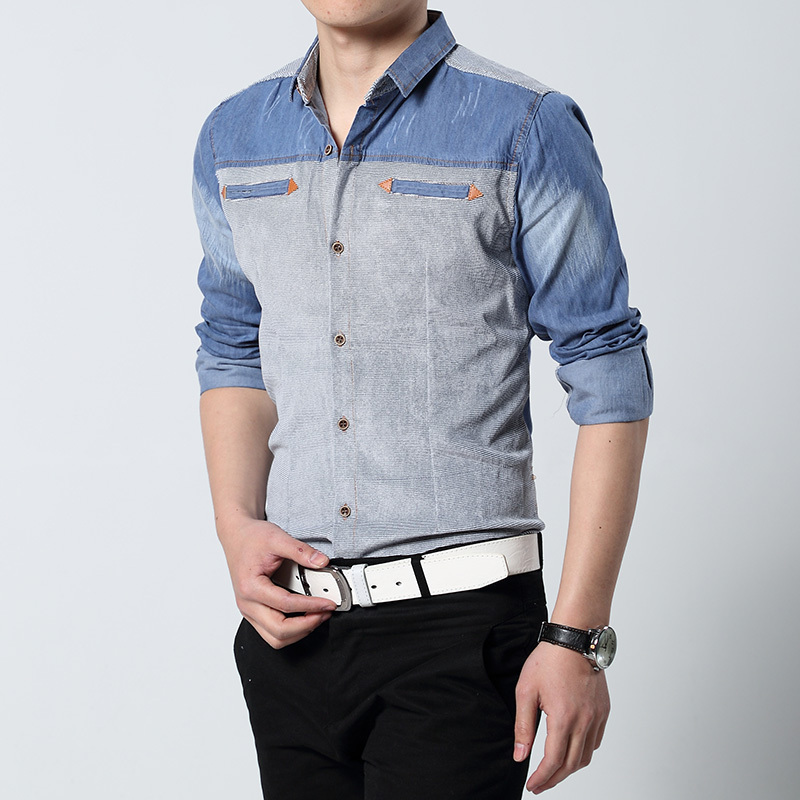Shirt: (173, 40, 656, 558)
